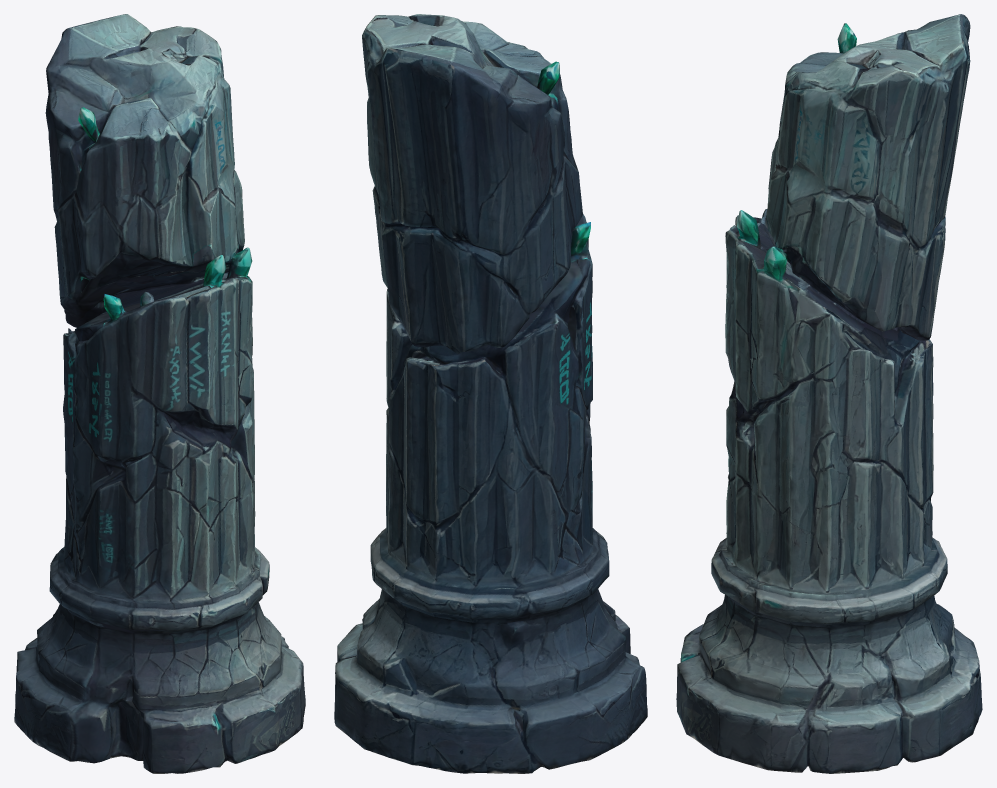
Rendered from Pillar2.fbx.
The picture shows the model from 3 angles, left to right: view 1: azimuth 30°, elevation 25°; view 2: azimuth 150°, elevation 25°; view 3: azimuth 270°, elevation 25°; orthographic projection. The views are drawn at different scales.
Visible parts, largest first — view 1: texture_mapping; view 2: texture_mapping; view 3: texture_mapping.
Boxes of the visible parts, <box> form: texture_mapping: <box>14,14,305,773</box>; texture_mapping: <box>334,14,647,773</box>; texture_mapping: <box>676,14,982,773</box>.
Size of the model in its own units: 0.4067 by 0.4069 by 1.
1 material, 1 textured.
